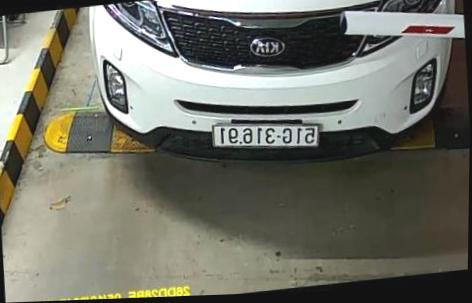License_Plate: (207, 116, 320, 156)
